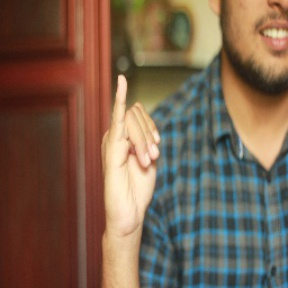I: (101, 72, 162, 216)
